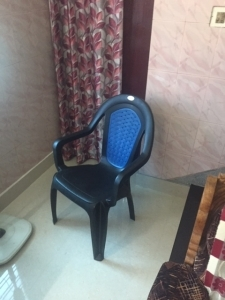chair: (49, 94, 156, 261)
